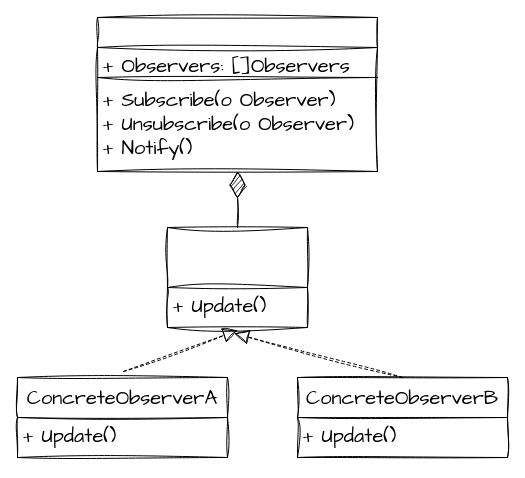
The diagram is 525 pixels wide and 478 high, and some of its shapes have lost their labels. The shapes that lost their labels are listed below. From the top down, each one's box as (x1, y1, x2, y2) in pixels, then its label:
(96, 16, 378, 172): Subject
(166, 226, 308, 328): Observer <<interface>>
